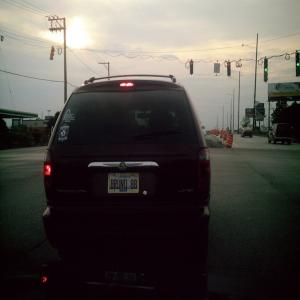Vehicle-registration-plate: (106, 174, 142, 200)
